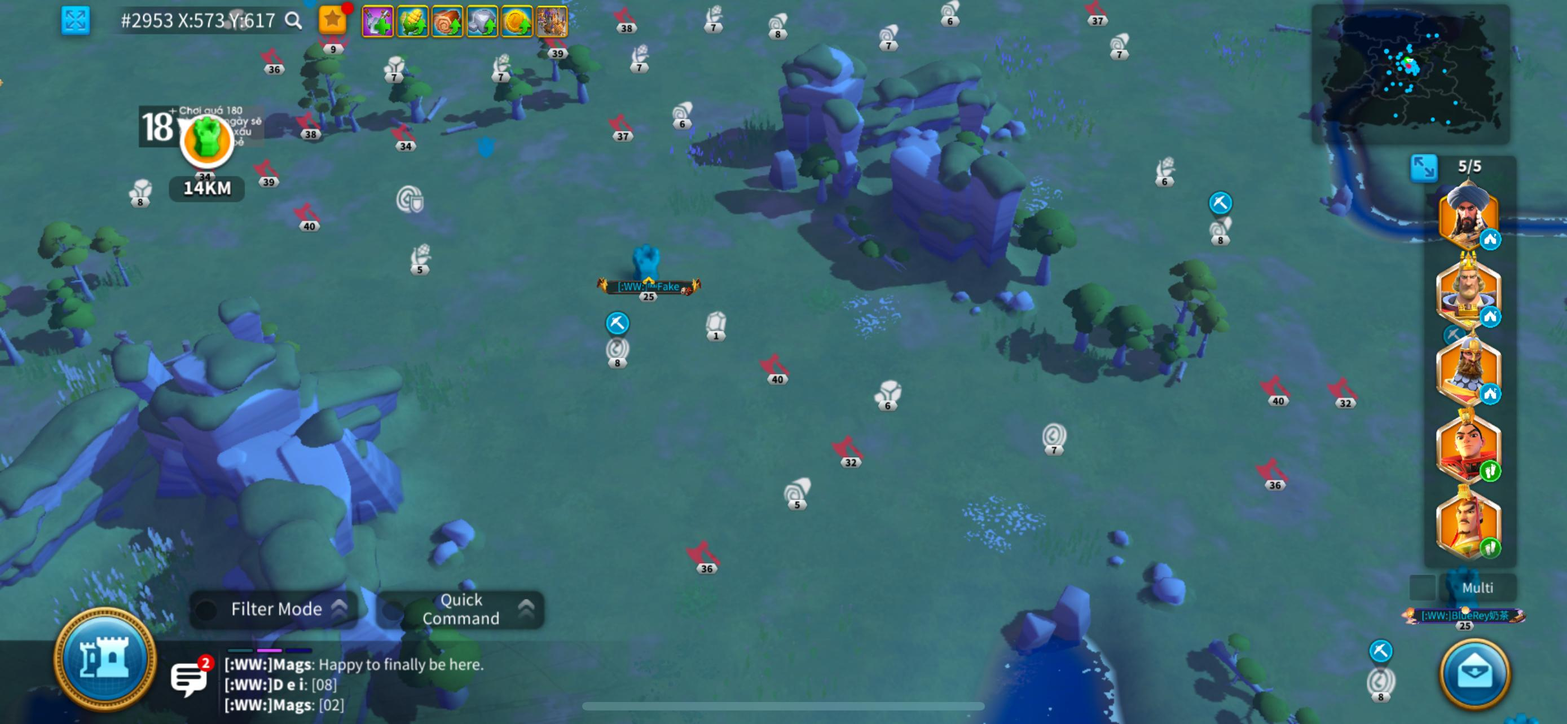gem-z-out: (705, 310, 728, 337)
march_idle: (1479, 382, 1502, 406), (1479, 228, 1502, 251), (1479, 305, 1502, 328)
march_marching: (1479, 536, 1503, 561), (1479, 459, 1502, 483)
